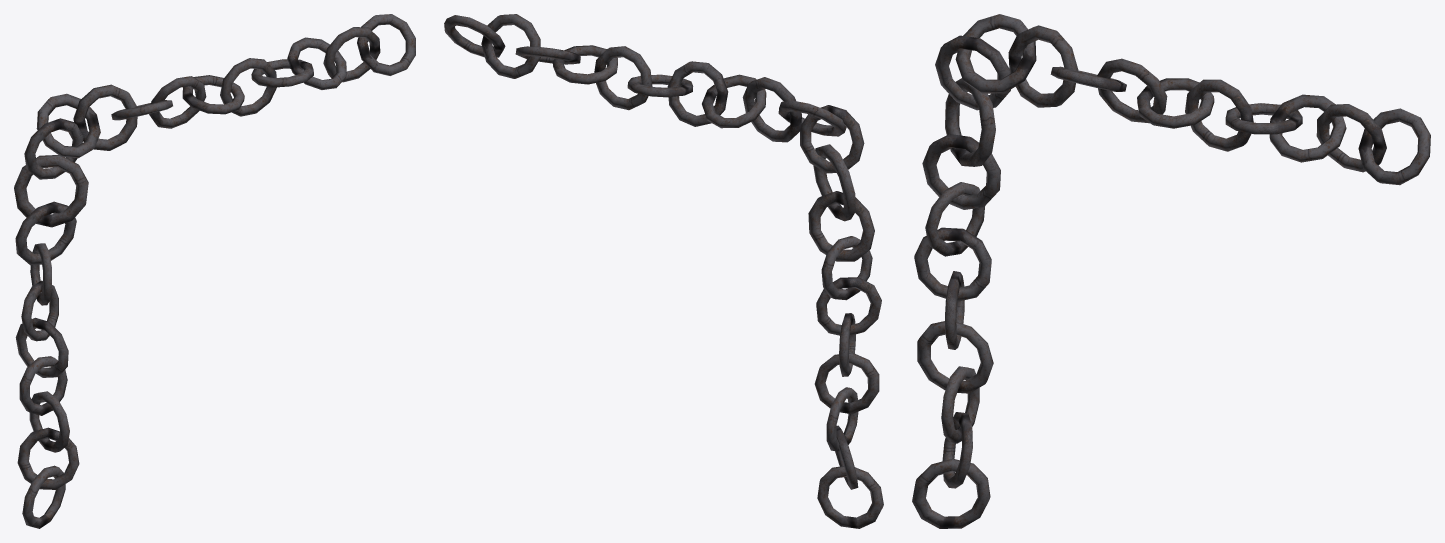
Rendered from Castle Wall Ring Chain 11.fbx.
3 renders of one model, left to right at view 1: azimuth 30°, elevation 25°; view 2: azimuth 150°, elevation 25°; view 3: azimuth 330°, elevation 25°, orthographic. The views are drawn at different scales.
Parts seen in each view (by area): view 1: Cube; view 2: Cube; view 3: Cube.
Boxes of the visible parts, <box> form: Cube: <box>14,14,415,528</box>; Cube: <box>444,14,883,528</box>; Cube: <box>912,14,1430,528</box>.
Bounding box in the file's own units: 138 × 136 × 22.31.
